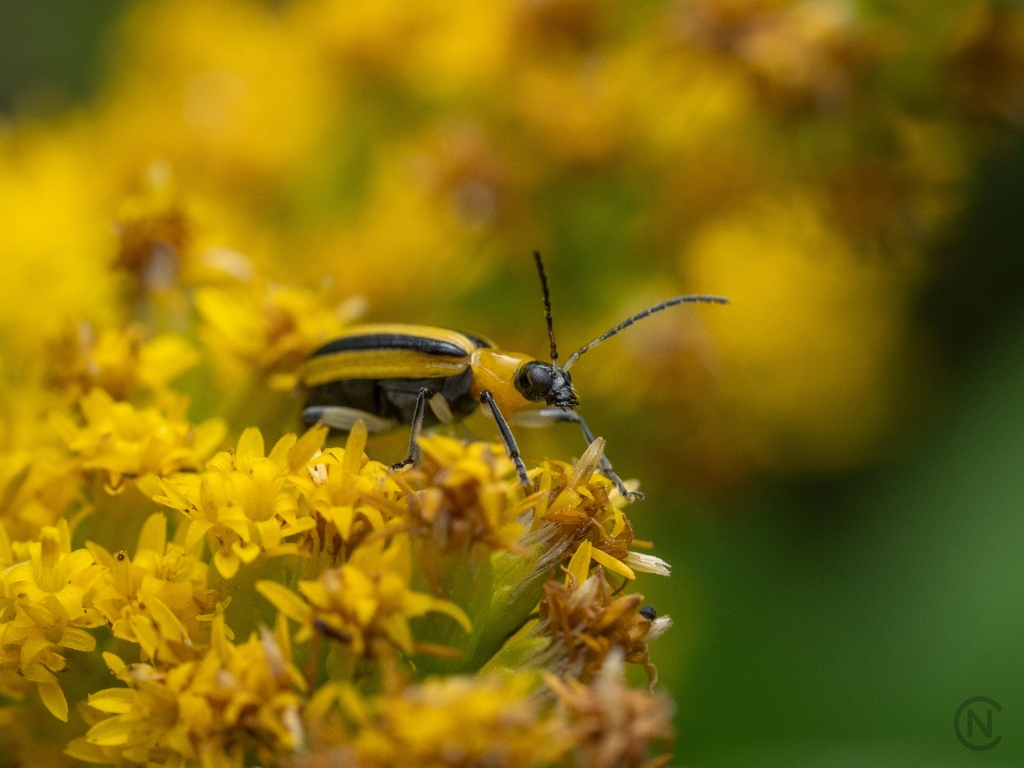potato_beetle: (166, 162, 791, 588)
